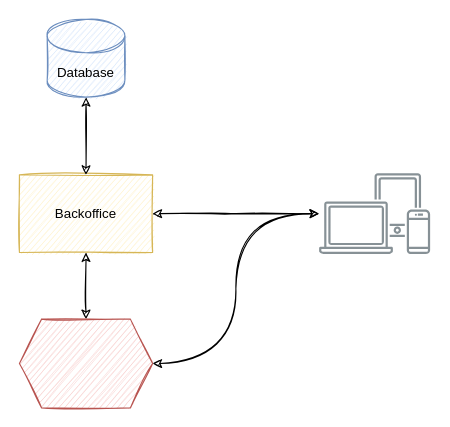
This 450x427 diagram has some shape labels left out. Here are the shapes that lost their labels. From the top down, the centre of each, then its label:
At pixel 374 213: "clients".
At pixel 85 363: "Mosquitto".
